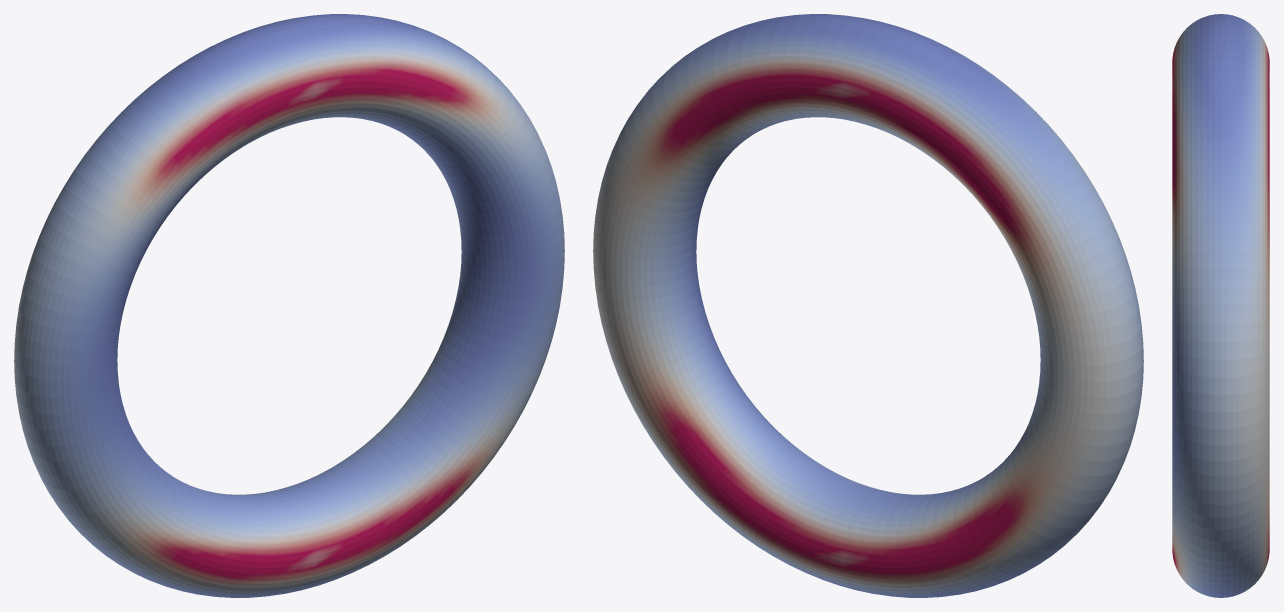
3 views of the same model, side by side, from view 1: azimuth 30°, elevation 25°; view 2: azimuth 150°, elevation 25°; view 3: azimuth 270°, elevation 25° (orthographic). The views are drawn at different scales.
Parts seen in each view (by area): view 1: world; view 2: world; view 3: world.
Part boxes in pixels (box(x1,y1,x2,y2)): world: box(14, 14, 564, 597); world: box(593, 14, 1143, 597); world: box(1172, 14, 1269, 597).
Bounding box in the file's own units: 22.67 × 22.67 × 3.77.
